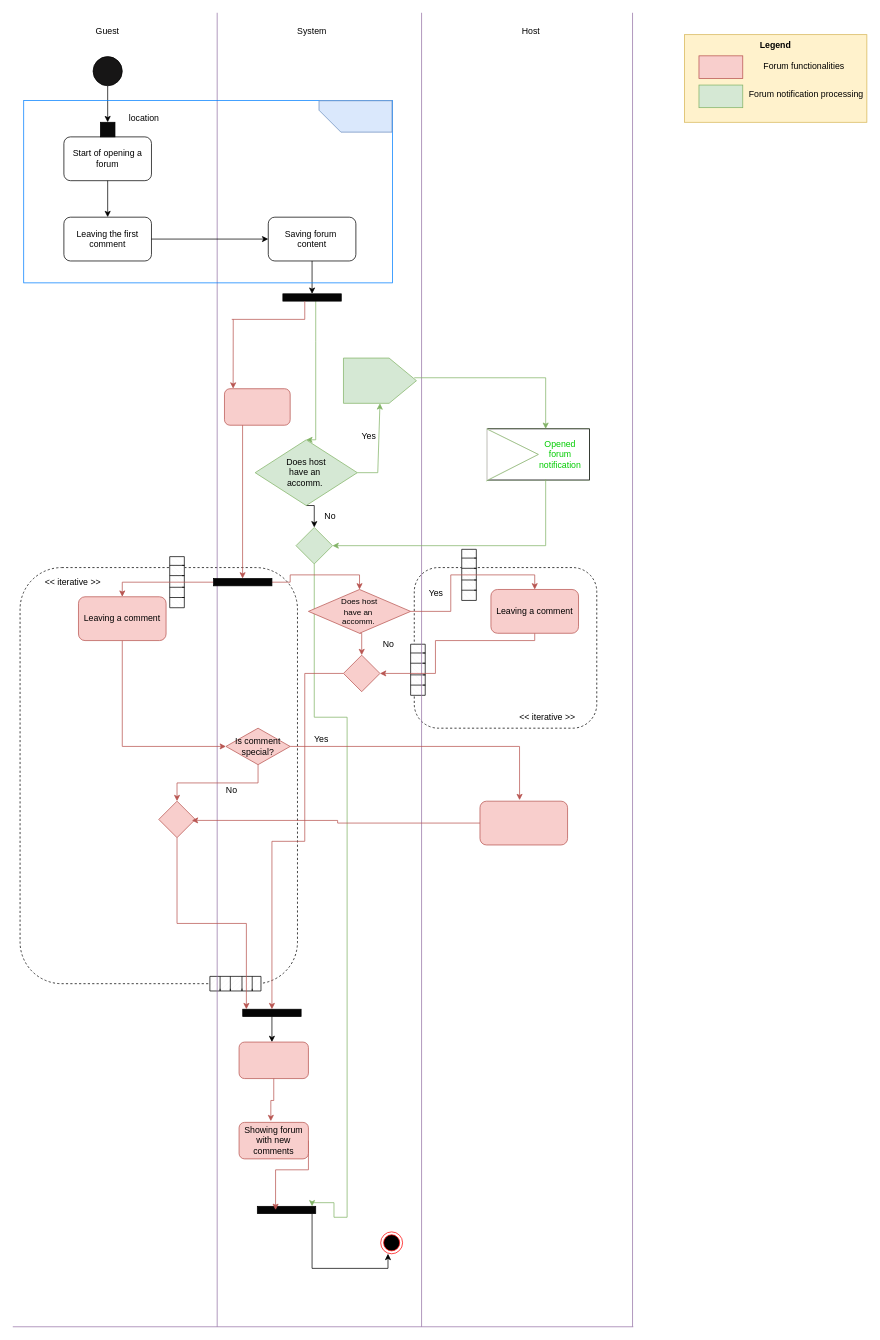
This 880x1340 diagram has some shape labels left out. The box of each missing label's shape, as (x1, y1, x2, y2) in pixels:
Counting comments: (238, 1041, 308, 1079)
Notify about opened forum: (343, 357, 416, 403)
Opening a forum: (318, 100, 392, 132)
Reporting a comment: (479, 800, 568, 845)
Showing forum with first comment: (224, 388, 290, 425)
